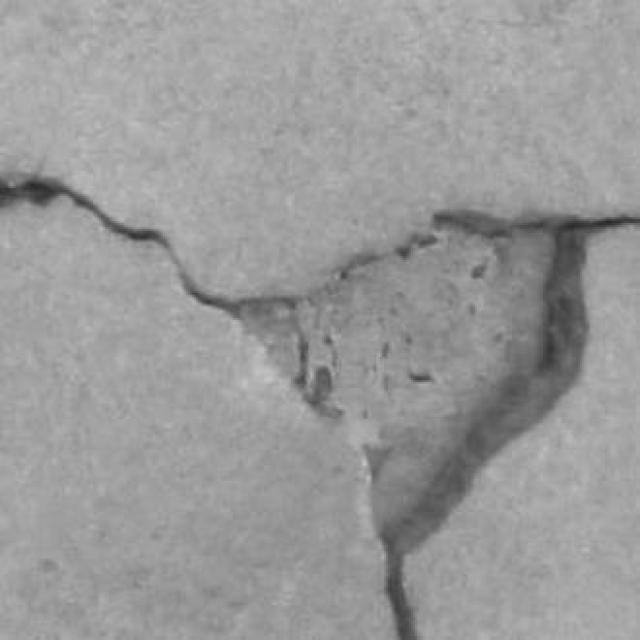crack: (369, 210, 639, 639), (379, 212, 639, 639)
